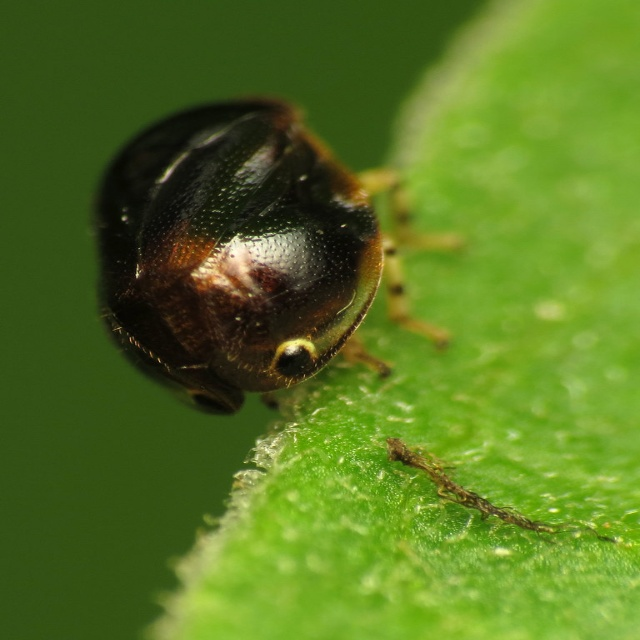Ladybug: (94, 95, 464, 414)
